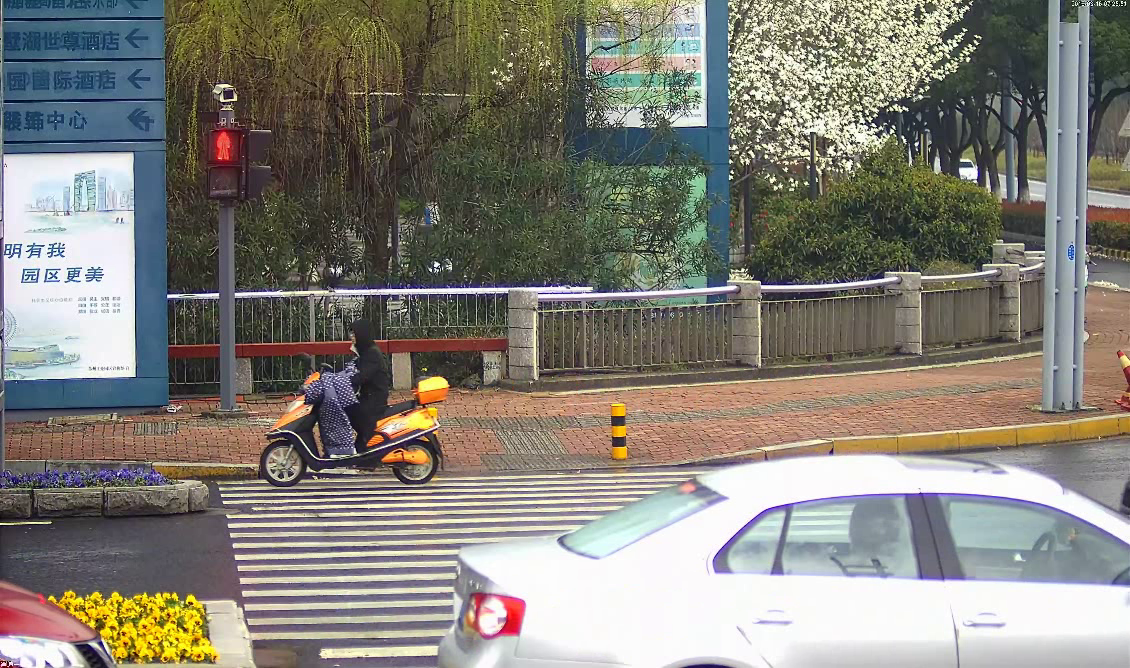person: (317, 316, 403, 470)
